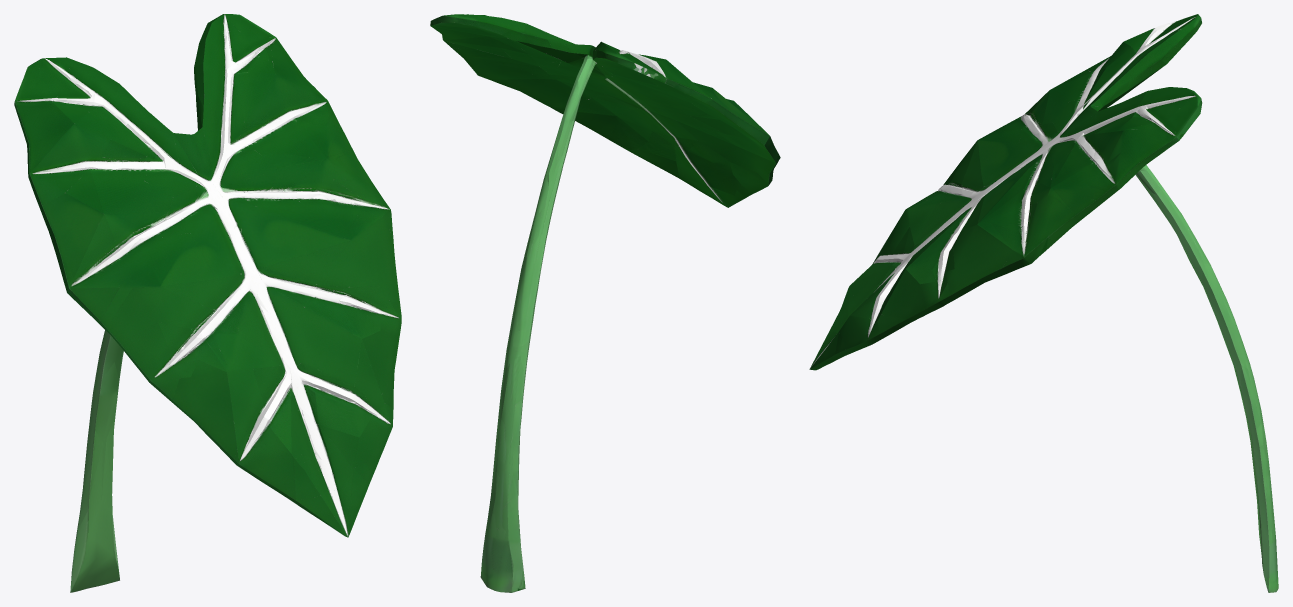
File: al_leaf_mid.glb
The picture shows the model from 3 angles, left to right: view 1: azimuth 30°, elevation 25°; view 2: azimuth 150°, elevation 25°; view 3: azimuth 270°, elevation 25°; orthographic projection. The views are drawn at different scales.
Bounding box in the file's own units: 1.09 × 1.9 × 1.52.
Materials: 1 (1 with a texture image).
